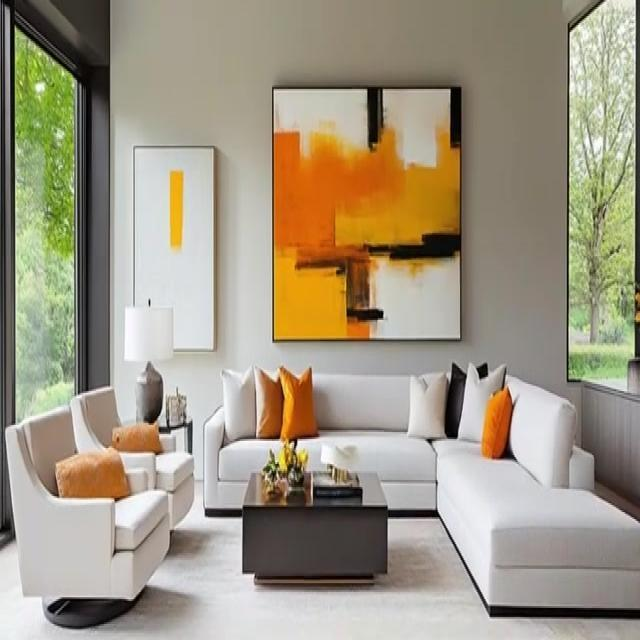obstacle: (202, 363, 639, 617), (9, 388, 198, 603), (241, 467, 388, 585)
